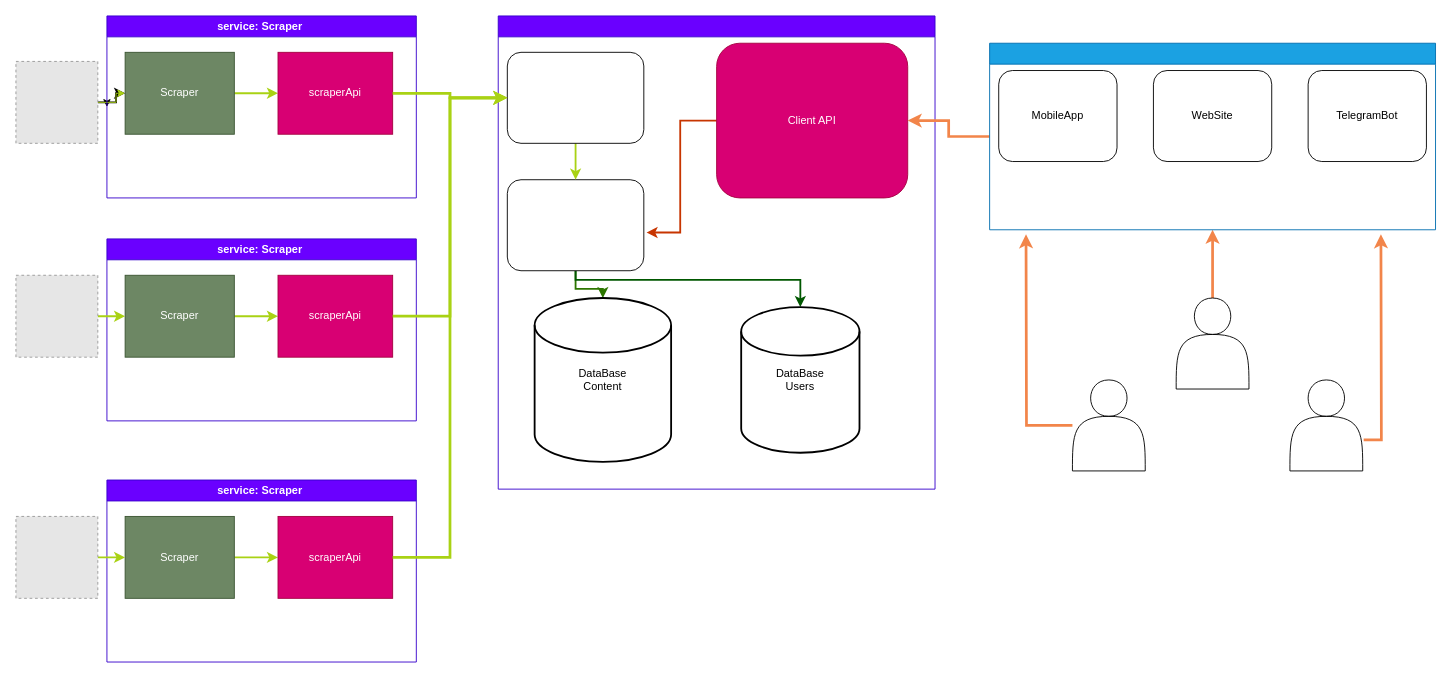
This 1451x678 diagram has some shape labels left out. Grey dashed boxes stand in for pictures. Each missing label, with the box of its shape:
APPs: (989, 42, 1436, 230)
Data Base Logic: (506, 179, 644, 271)
service: Client: (497, 15, 935, 489)
Transport Logic: (506, 51, 644, 143)
